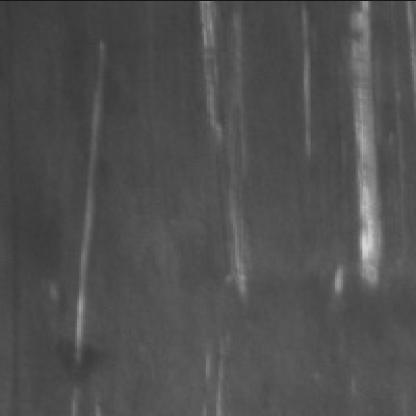scratches: (337, 2, 393, 316), (204, 2, 256, 308), (74, 46, 112, 368), (296, 6, 324, 162)
